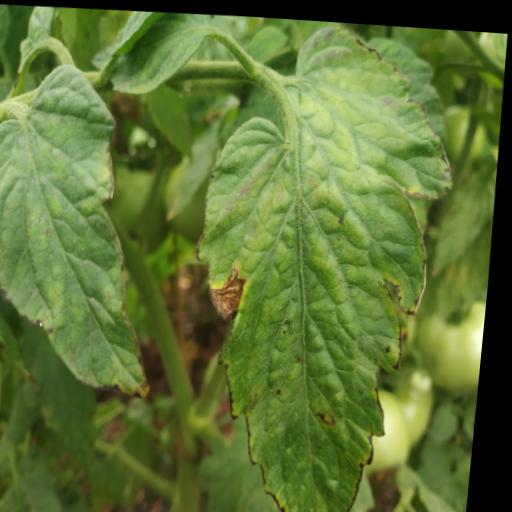Early Blight: (172, 11, 471, 512), (0, 56, 185, 402)
